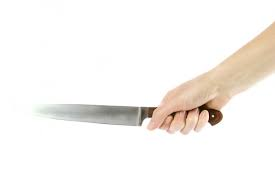weapon-unusual: (27, 96, 233, 143)
